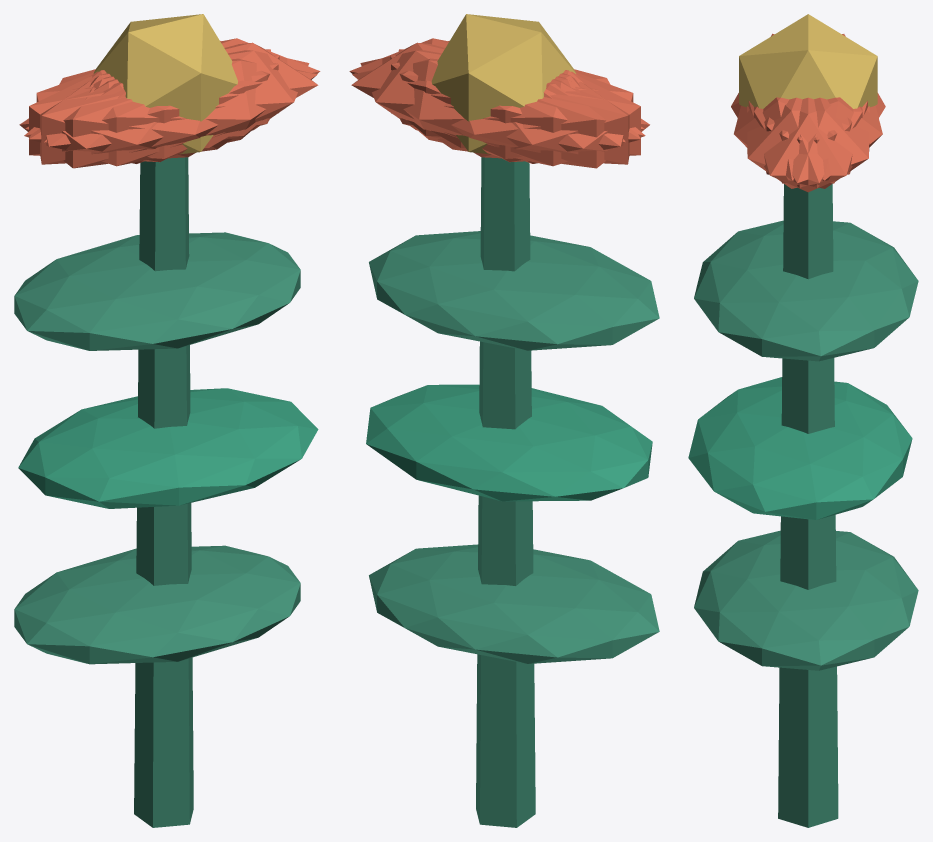
Rendered from castanopsis-indica.glb.
3 views of the same model, side by side, from view 1: azimuth 30°, elevation 25°; view 2: azimuth 150°, elevation 25°; view 3: azimuth 270°, elevation 25° (orthographic).
Parts seen in each view (by area): view 1: leaf1, leaf2, leaf0, stem, center, petal1, petal6, petal2, petal5, petal7, petal0, petal4 (+2 smaller); view 2: leaf2, leaf0, leaf1, stem, center, petal8, petal3, petal7, petal4, petal2, petal0, petal5 (+2 smaller); view 3: leaf2, leaf1, leaf0, stem, center, petal0, petal4, petal5, petal8, petal1.
Part boxes in pixels (x1,y1,x2,y2): leaf1: [18, 388, 318, 508]; leaf2: [14, 232, 300, 350]; leaf0: [14, 545, 300, 664]; stem: [134, 157, 193, 827]; center: [93, 14, 237, 154]; petal1: [24, 58, 317, 166]; petal6: [19, 71, 231, 168]; petal2: [40, 49, 270, 164]; petal5: [44, 50, 309, 158]; petal7: [29, 55, 279, 162]; petal0: [93, 42, 318, 148]; petal4: [25, 38, 320, 139]; leaf2: [369, 231, 659, 350]; leaf0: [369, 544, 659, 663]; leaf1: [366, 384, 652, 501]; stem: [476, 157, 535, 827]; center: [431, 14, 575, 154]; petal8: [352, 58, 645, 166]; petal3: [437, 71, 649, 168]; petal7: [398, 49, 629, 164]; petal4: [360, 50, 625, 158]; petal2: [390, 55, 640, 162]; petal0: [351, 42, 576, 148]; petal5: [349, 38, 644, 139]; leaf2: [694, 220, 918, 361]; leaf1: [688, 377, 912, 519]; leaf0: [694, 530, 918, 670]; stem: [778, 184, 838, 827]; center: [739, 14, 877, 108]; petal0: [748, 97, 867, 192]; petal4: [754, 97, 869, 188]; petal5: [747, 97, 862, 188]; petal8: [764, 97, 882, 180]; petal1: [734, 97, 852, 180].
Bounding box in the file's own units: 0.149 × 0.3808 × 0.1016.
